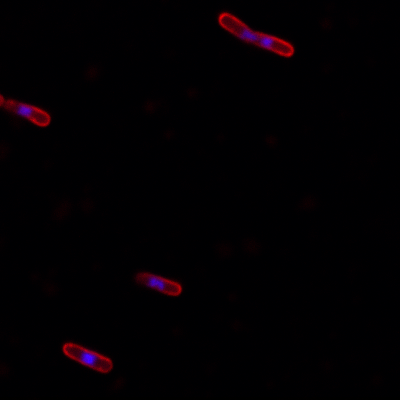Nalidixate: (216, 10, 295, 57), (61, 340, 114, 375)
Oblique: (132, 271, 183, 298)
